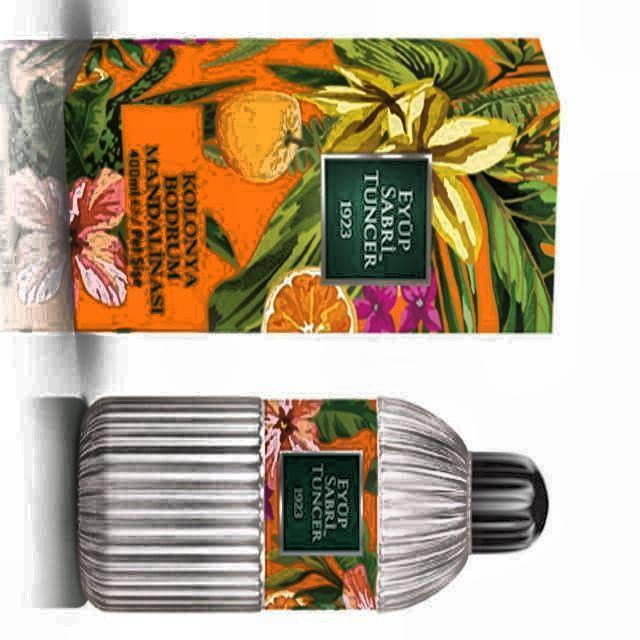cardboard: (65, 40, 559, 332)
plastic: (78, 398, 548, 610)
